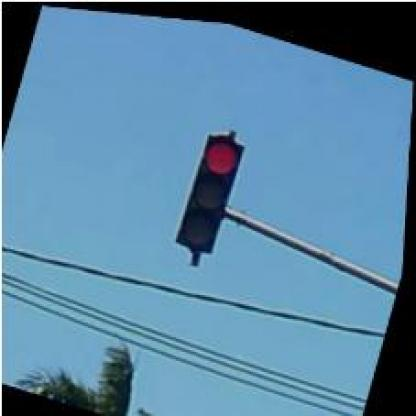red: (175, 125, 246, 253)
